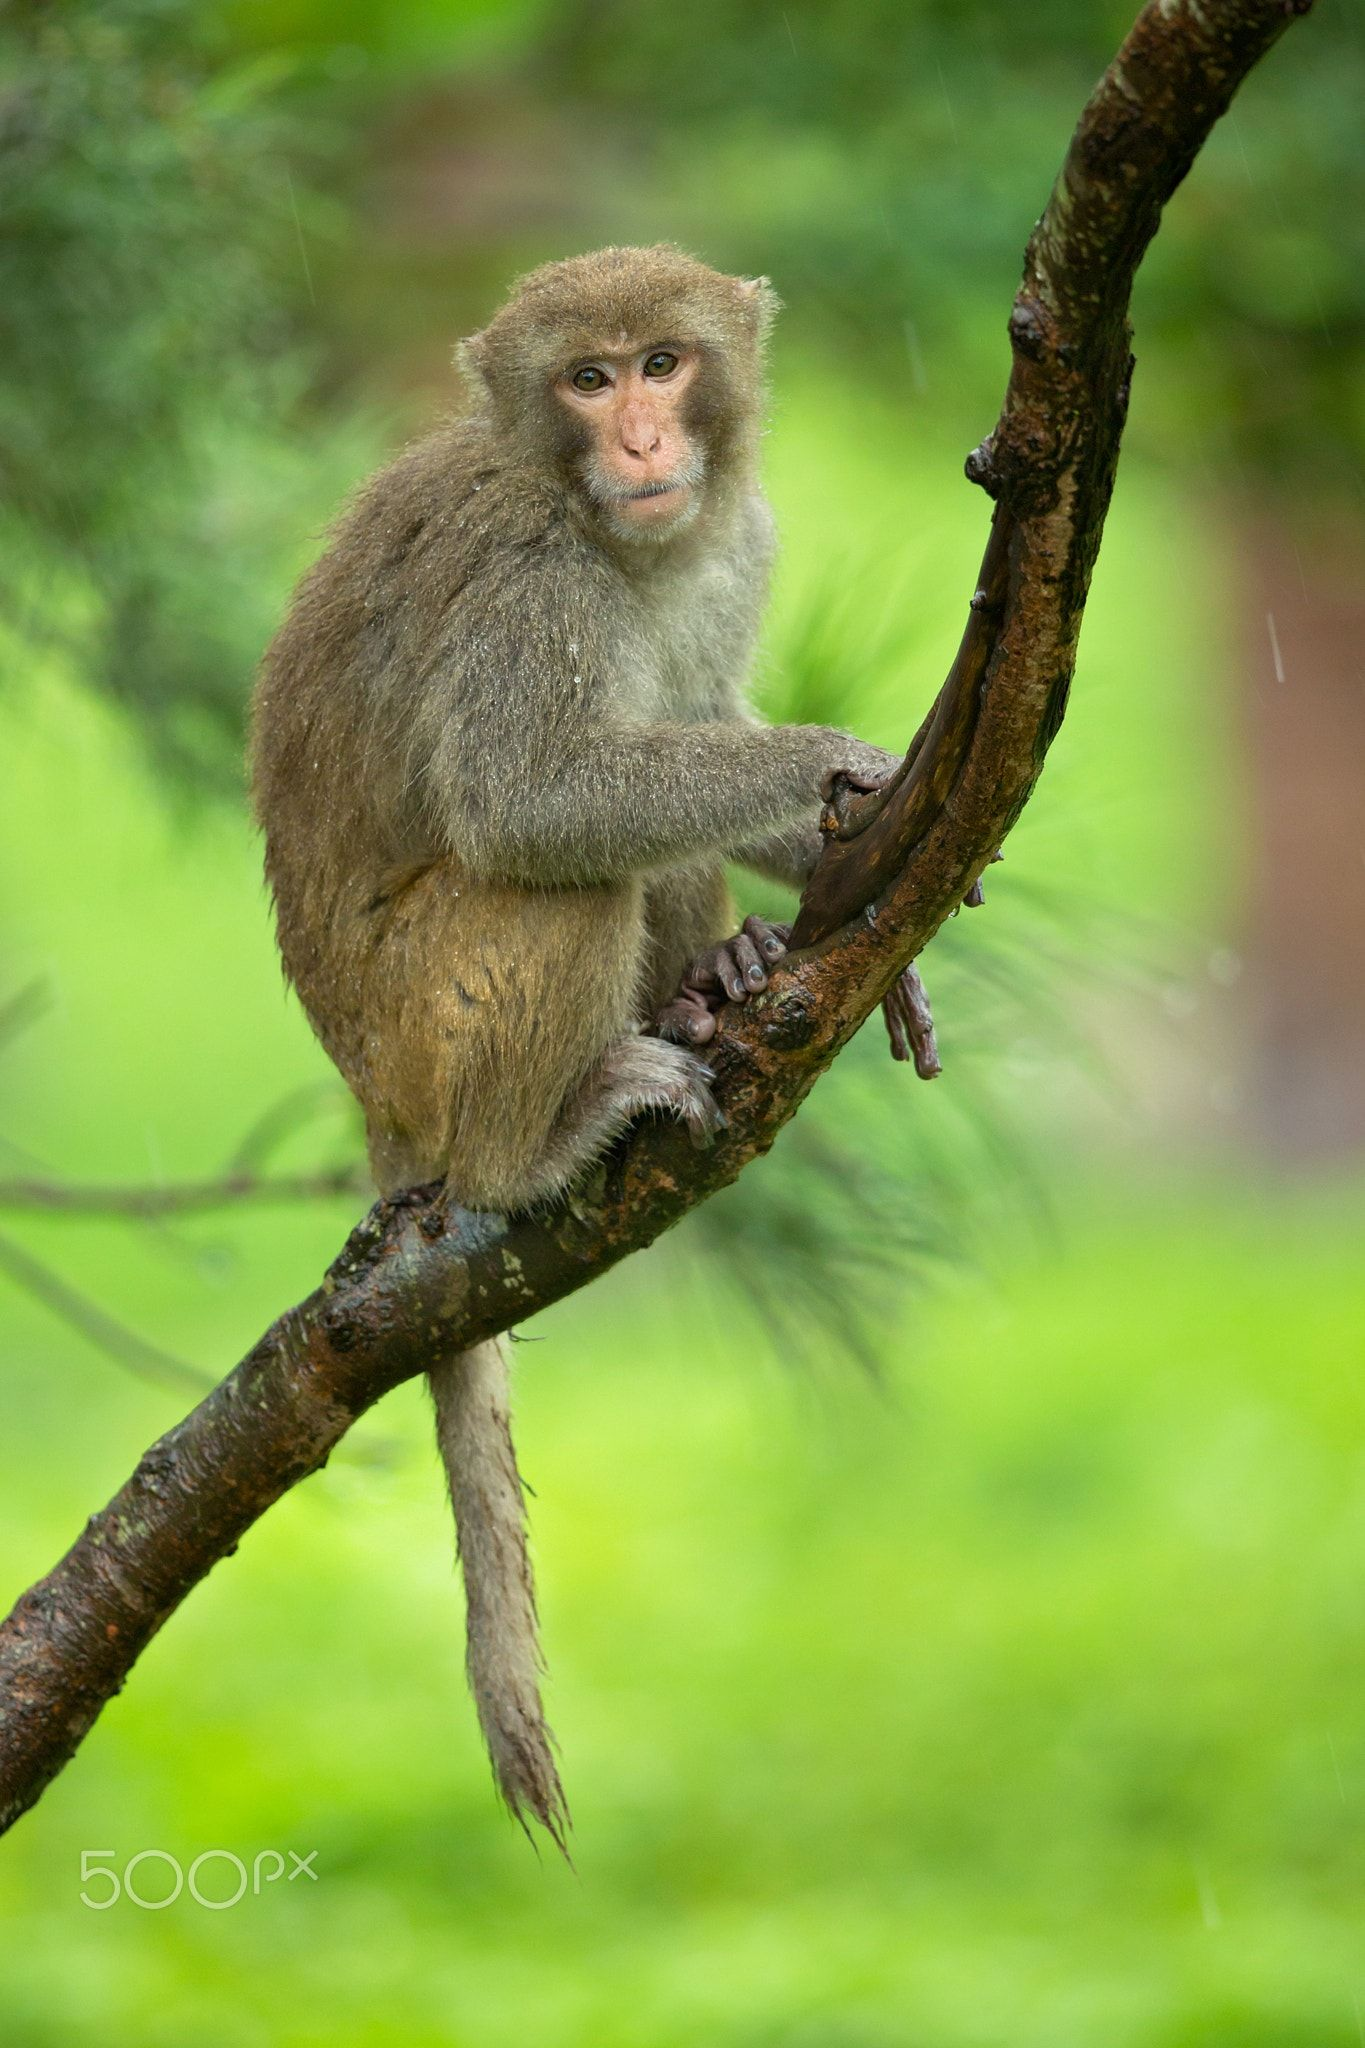monkey: (235, 227, 999, 1893)
